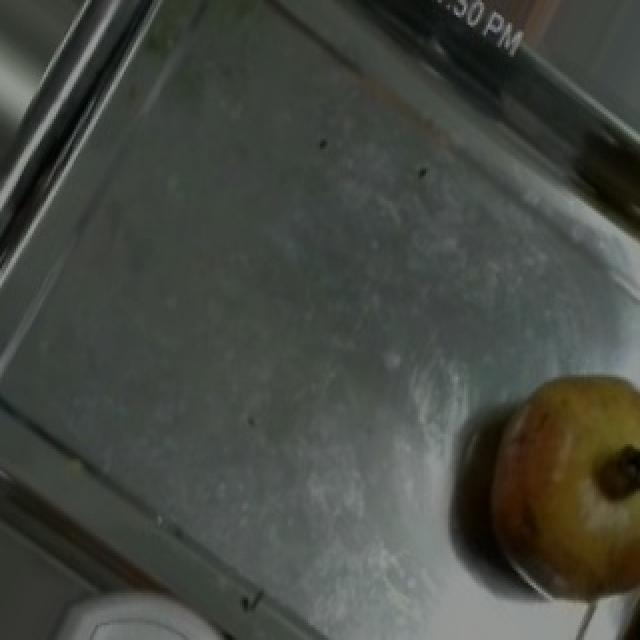fruit: (462, 344, 640, 622)
